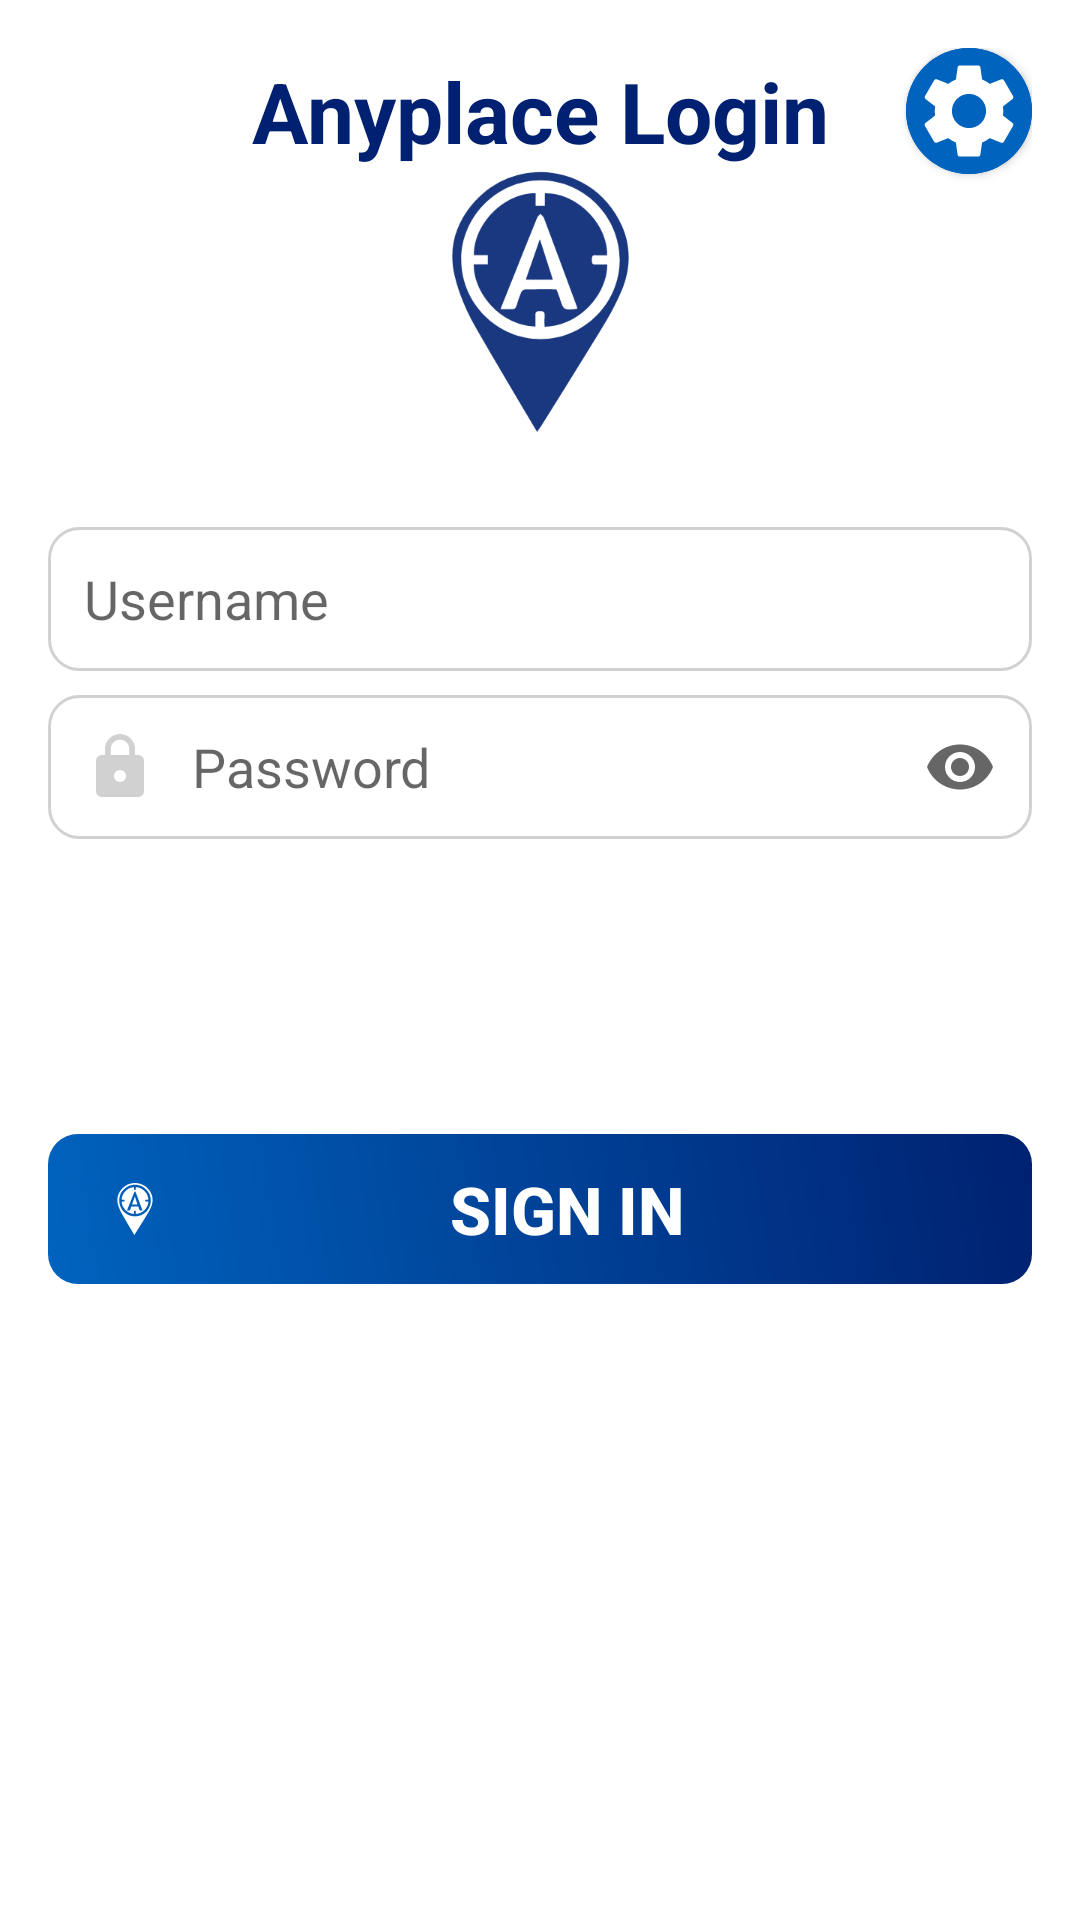

Screen size 1080w x 1920h. Icon name, then its center in pixels as [x,y]:
settings: [969,111]
